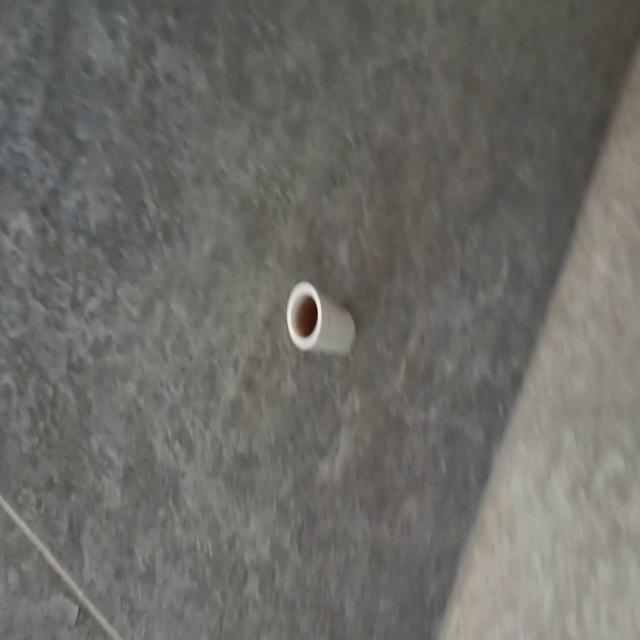Cube: (285, 279, 356, 357)
